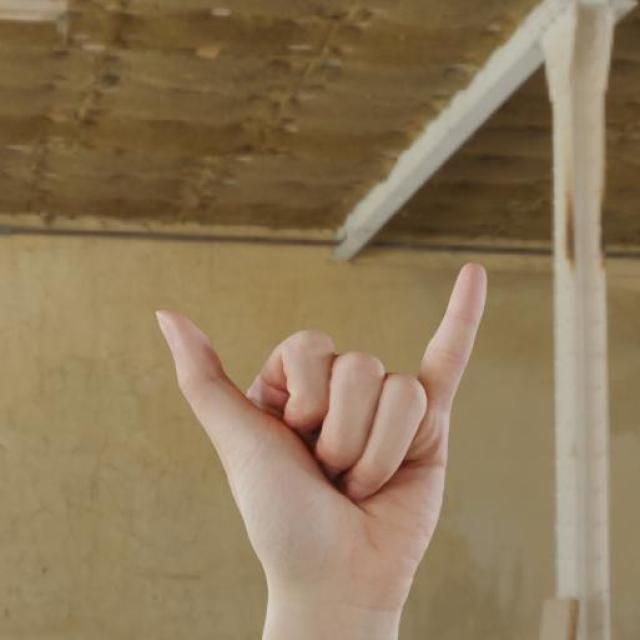Y: (152, 261, 494, 617)
